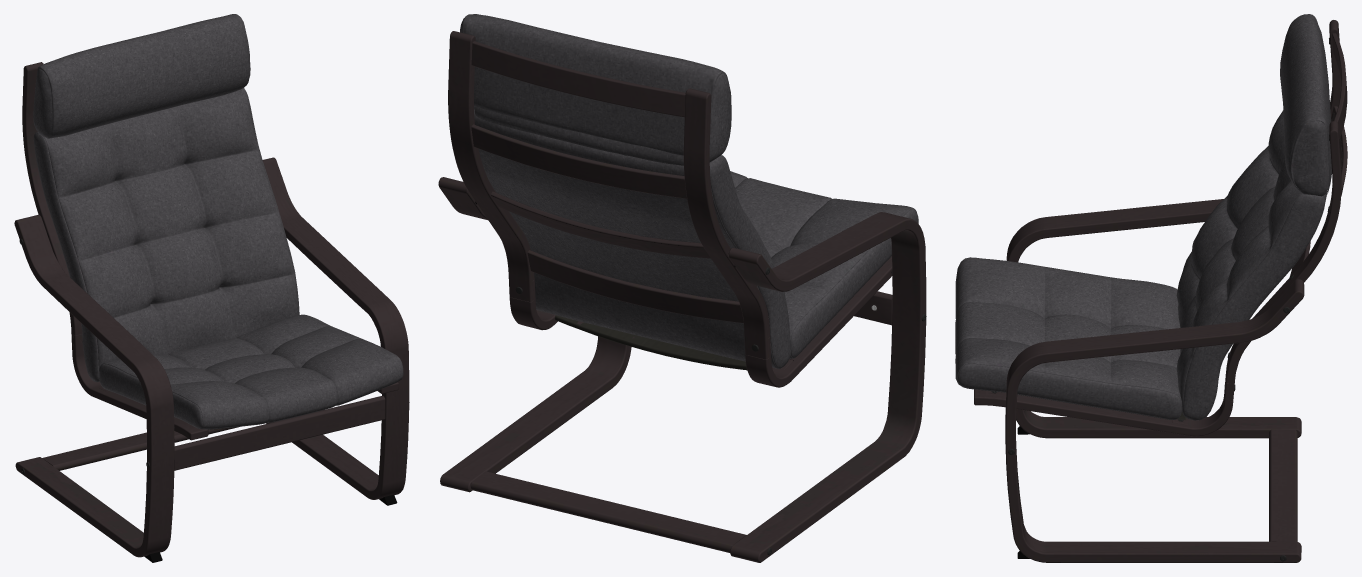
The model's file is 14 - POÄNG Armchair - black-brownGunnared dark grey.glb.
3 renders of one model, left to right at view 1: azimuth 30°, elevation 25°; view 2: azimuth 150°, elevation 25°; view 3: azimuth 270°, elevation 25°, orthographic. The views are drawn at different scales.
Parts seen in each view (by area): view 1: 60560531_armchair_cushion:1, Mesh_0; view 2: Mesh_0, 60560531_armchair_cushion:1; view 3: 60560531_armchair_cushion:1, Mesh_0.
Part boxes in pixels (bbox=[...]): 60560531_armchair_cushion:1: bbox=[33, 14, 403, 429]; Mesh_0: bbox=[14, 62, 409, 562]; Mesh_0: bbox=[438, 31, 926, 562]; 60560531_armchair_cushion:1: bbox=[460, 14, 918, 368]; 60560531_armchair_cushion:1: bbox=[955, 14, 1331, 420]; Mesh_0: bbox=[974, 20, 1347, 562].
Bounding box in the file's own units: 0.6871 × 0.9993 × 0.8233.
Materials: 2 (2 with a texture image).
